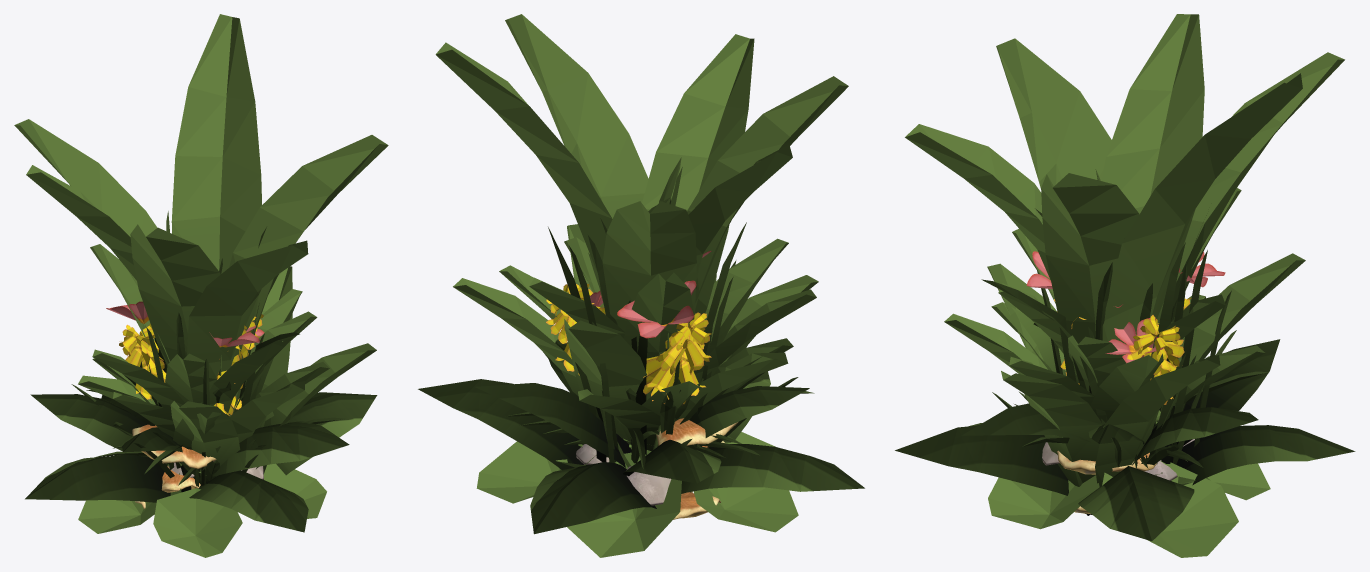
Rendered from natur_kit_boden.glb.
3 views of the same model, side by side, from view 1: azimuth 30°, elevation 25°; view 2: azimuth 150°, elevation 25°; view 3: azimuth 270°, elevation 25° (orthographic). The views are drawn at different scales.
Visible parts, largest first — view 1: Kraut3, KitFarn1, Kraut1, Kraut2, KitGras4, KitBlumen2, KitBlumen1, KitPilze2, KitGras2; view 2: Kraut3, KitFarn1, Kraut1, Kraut2, KitBlumen2, KitGras4, KitGras2, KitBlumen1, KitPilze2, KitPilze1, KitGras3; view 3: Kraut3, KitFarn1, Kraut1, Kraut2, KitGras4, KitBlumen2, KitBlumen1, KitGras2, KitGras3, KitPilze2, KitPilze1.
Part boxes in pixels (left/top/right/bottom): Kraut3: left=14, top=14, right=388, bottom=468; KitFarn1: left=25, top=392, right=377, bottom=532; Kraut1: left=78, top=266, right=376, bottom=476; Kraut2: left=78, top=455, right=326, bottom=557; KitGras4: left=71, top=327, right=345, bottom=487; KitBlumen2: left=119, top=314, right=263, bottom=475; KitBlumen1: left=106, top=301, right=264, bottom=484; KitPilze2: left=132, top=424, right=216, bottom=508; KitGras2: left=148, top=211, right=266, bottom=492; Kraut3: left=435, top=14, right=848, bottom=451; KitFarn1: left=418, top=357, right=864, bottom=534; Kraut1: left=453, top=224, right=818, bottom=444; Kraut2: left=476, top=432, right=798, bottom=557; KitBlumen2: left=546, top=284, right=711, bottom=467; KitGras4: left=520, top=198, right=814, bottom=492; KitGras2: left=548, top=157, right=746, bottom=462; KitBlumen1: left=555, top=251, right=711, bottom=449; KitPilze2: left=656, top=418, right=738, bottom=519; KitPilze1: left=576, top=444, right=671, bottom=505; KitGras3: left=506, top=362, right=764, bottom=463; Kraut3: left=905, top=14, right=1344, bottom=429; KitFarn1: left=895, top=339, right=1355, bottom=541; Kraut1: left=944, top=253, right=1305, bottom=514; Kraut2: left=988, top=460, right=1270, bottom=557; KitGras4: left=981, top=242, right=1268, bottom=468; KitBlumen2: left=1054, top=298, right=1195, bottom=485; KitBlumen1: left=1026, top=251, right=1225, bottom=465; KitGras2: left=1035, top=169, right=1206, bottom=463; KitGras3: left=1019, top=354, right=1204, bottom=468; KitPilze2: left=1057, top=450, right=1156, bottom=513; KitPilze1: left=1042, top=439, right=1194, bottom=480.
Size of the model in its own units: 1.3 by 1.4 by 1.22.
3 materials, 3 textured.
